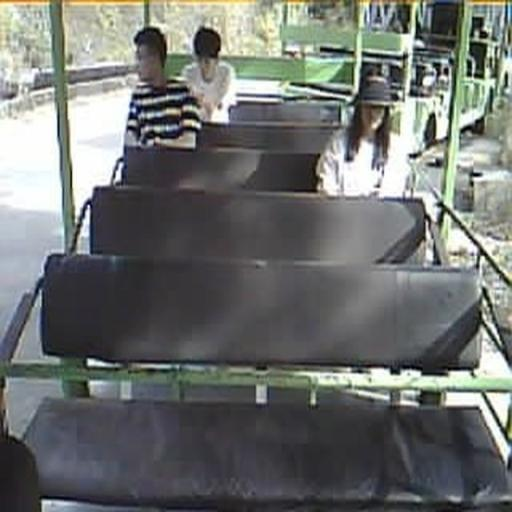persona: (122, 26, 204, 170), (314, 73, 405, 198), (179, 25, 236, 121)
